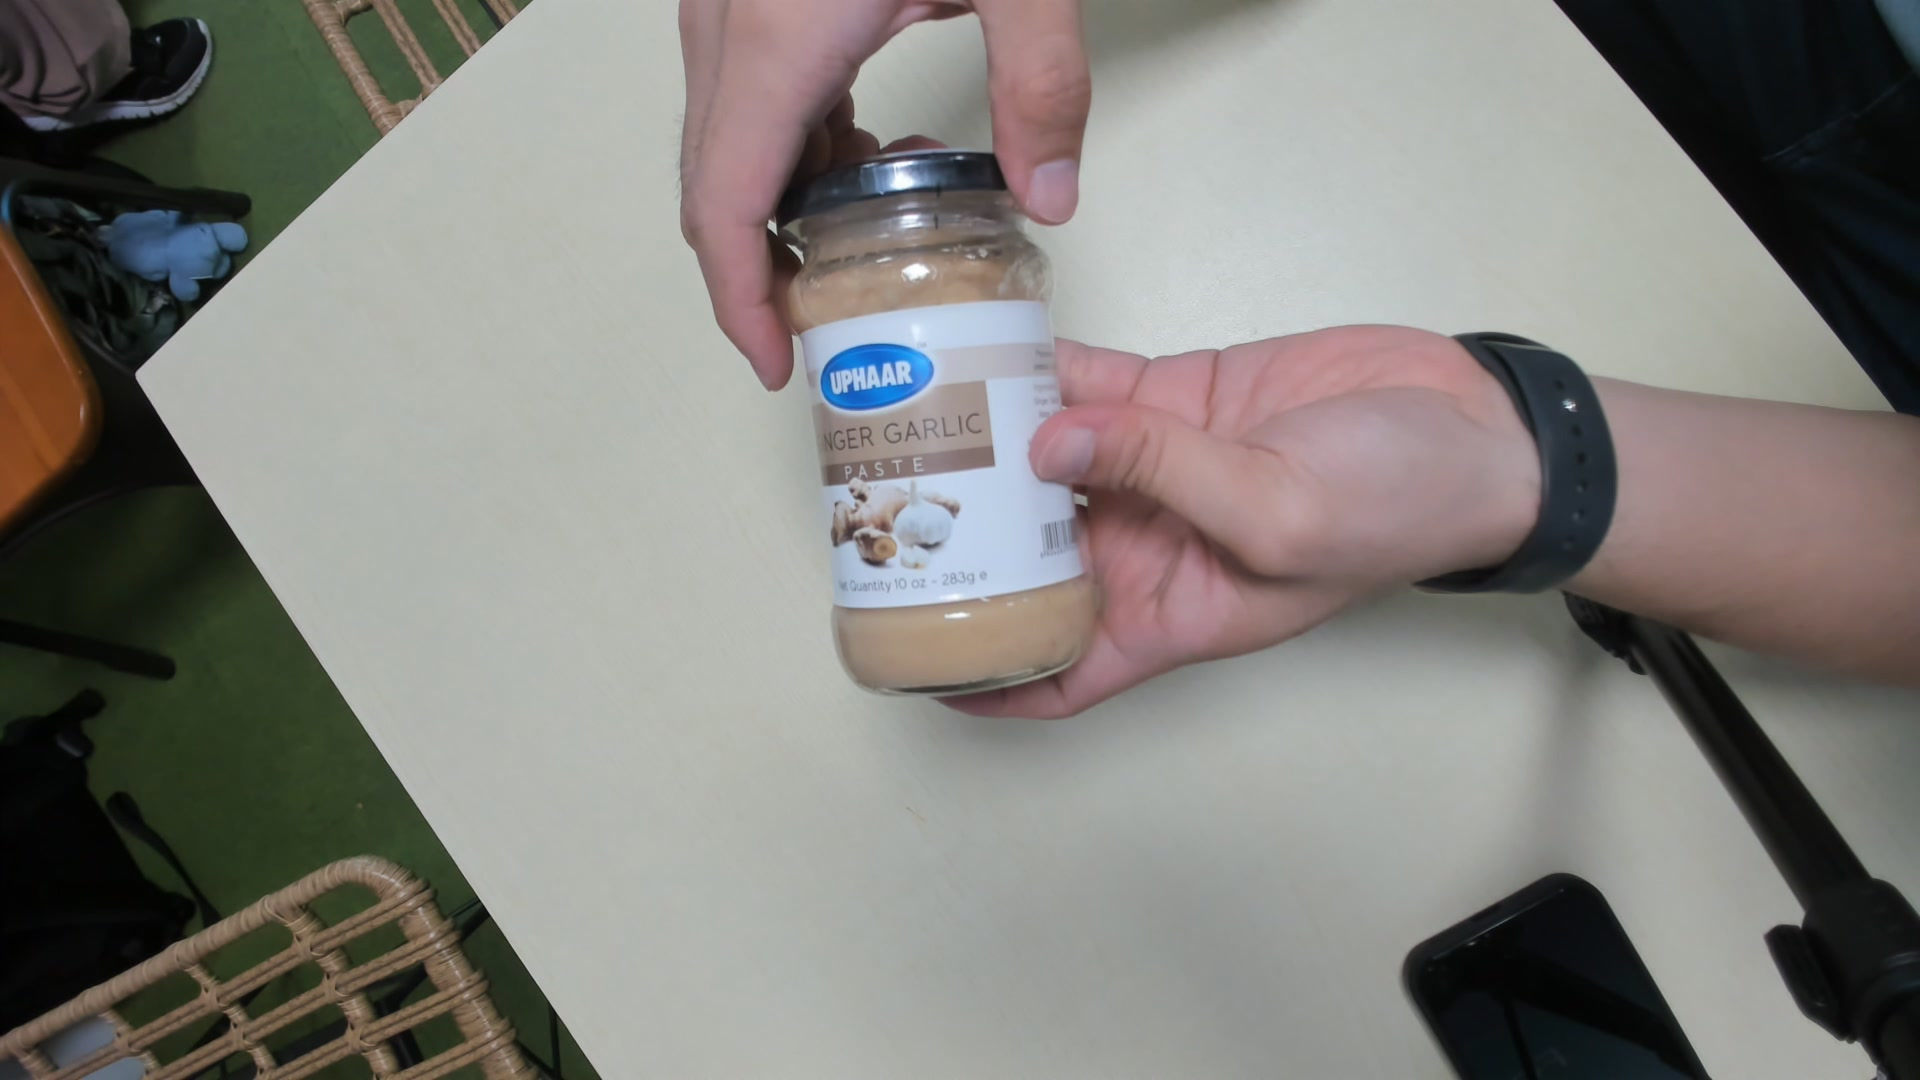OtherSauceDressing_200-299g_NonHalal_NonHealthy: (778, 152, 1097, 703)
